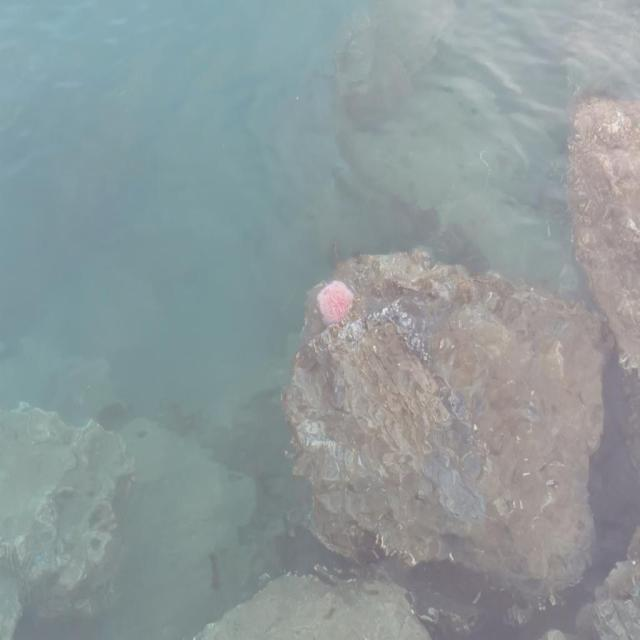Deniz Kestanesi: (317, 280, 353, 325)
